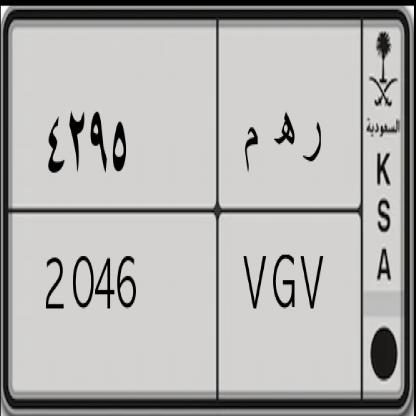english: (5, 193, 369, 414)
